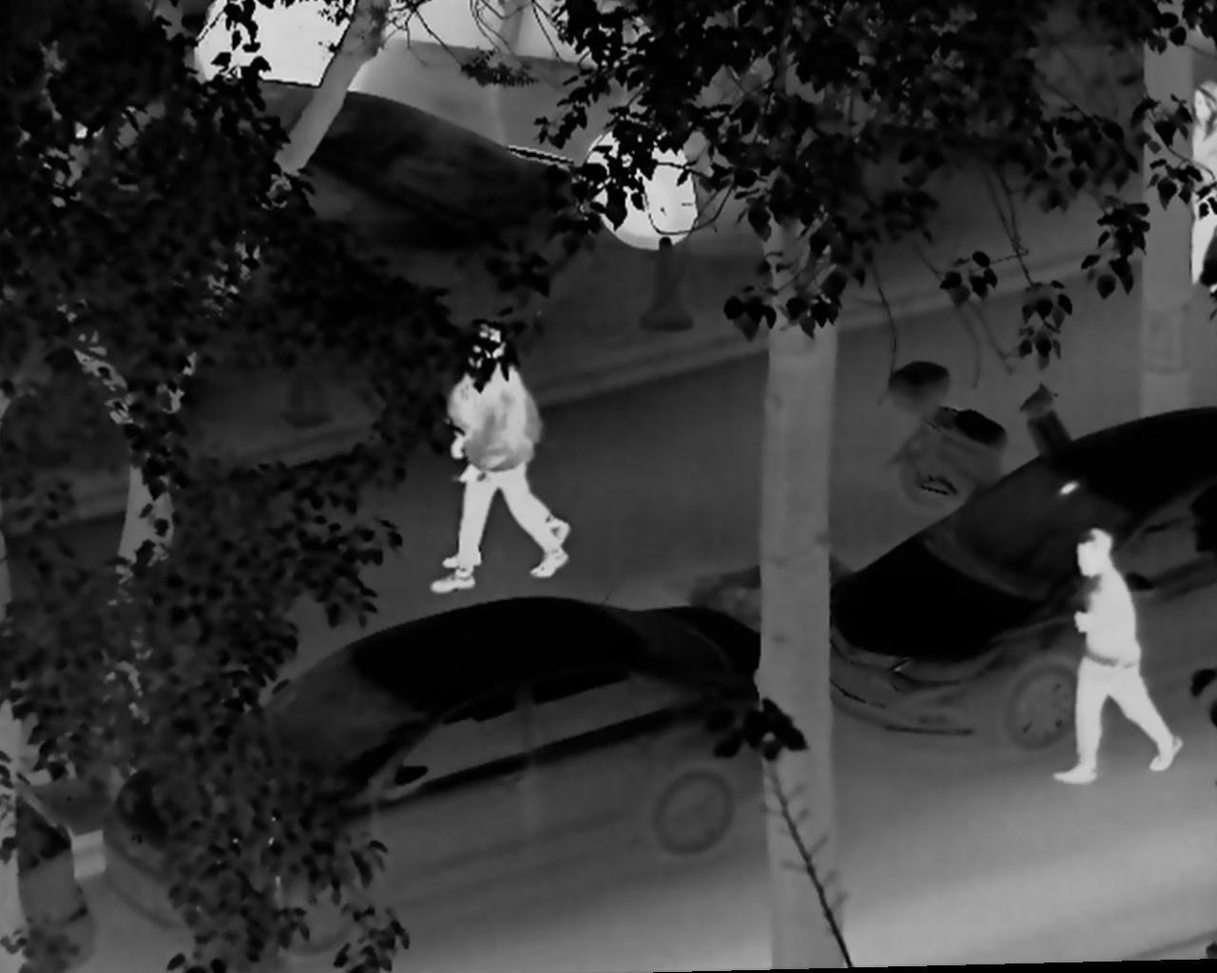person: (430, 323, 573, 597), (1052, 523, 1182, 786), (442, 328, 570, 571), (1173, 79, 1217, 301)
